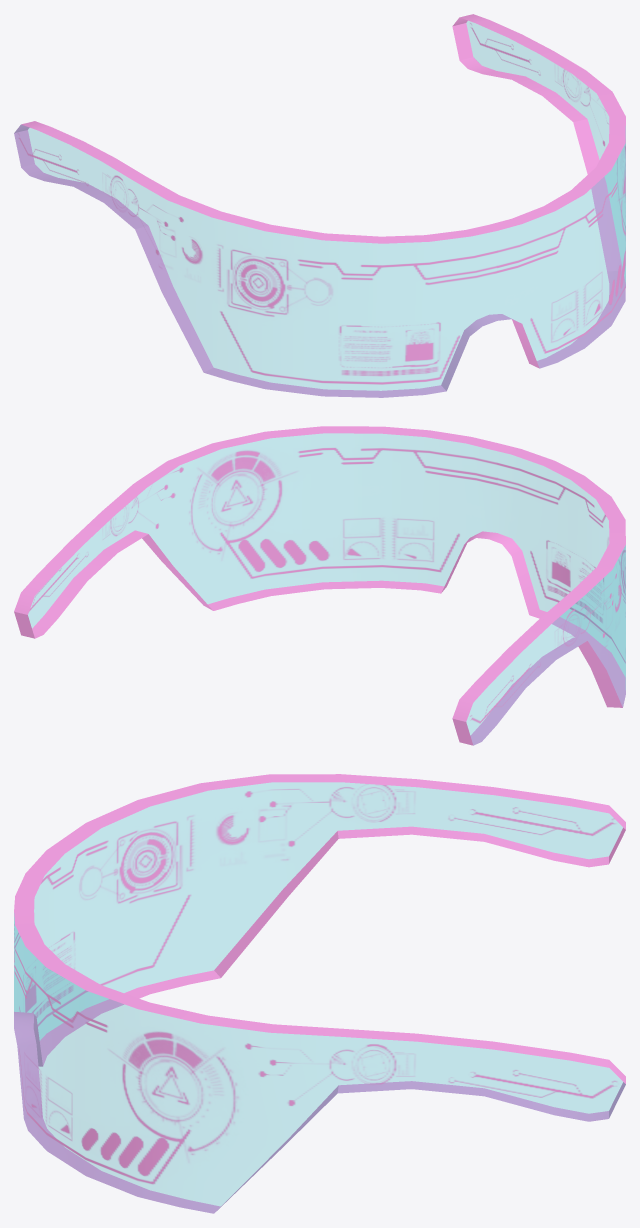
3 views of the same model, one above another, from view 1: azimuth 30°, elevation 25°; view 2: azimuth 150°, elevation 25°; view 3: azimuth 270°, elevation 25° (orthographic). The views are drawn at different scales.
Parts seen in each view (by area): view 1: Wolf3D_Glasses; view 2: Wolf3D_Glasses; view 3: Wolf3D_Glasses.
Boxes of the visible parts, left/top/right/bottom form: Wolf3D_Glasses: left=14, top=14, right=625, bottom=397; Wolf3D_Glasses: left=14, top=426, right=625, bottom=745; Wolf3D_Glasses: left=14, top=774, right=625, bottom=1213.
Bounding box in the file's own units: 0.1663 × 0.0559 × 0.1637.
1 material, 1 textured.
